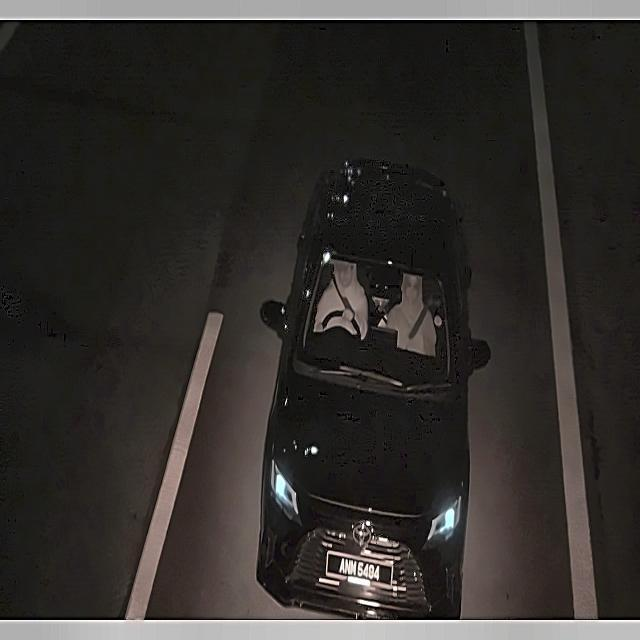car: (326, 545, 392, 589)
